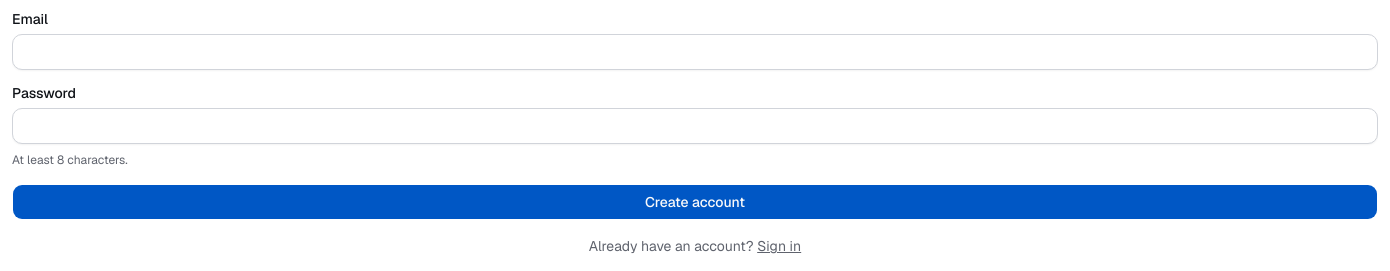
Test case: SignUpForm › when email confirmation is needed, shows the code step instead of leaving
Type "new@x.com" into the field labelled "Email" at (695, 52), box [12, 34, 1378, 70]
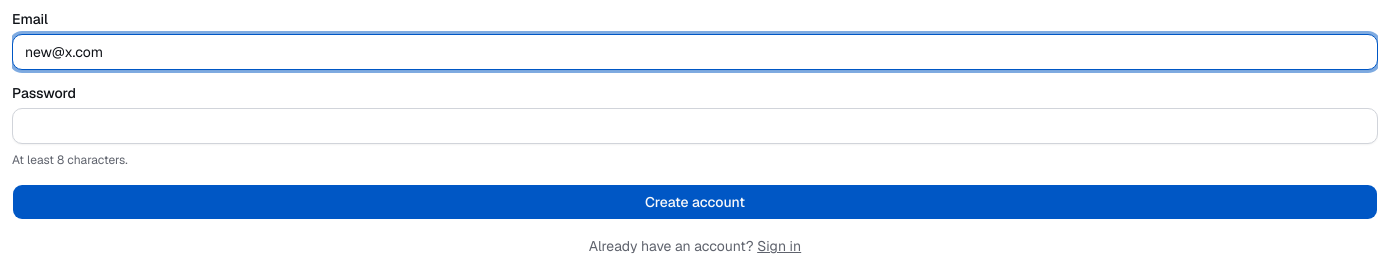
Type "new-person-pw-1" into the password field labelled "Password" at (695, 126), box [12, 108, 1378, 144]
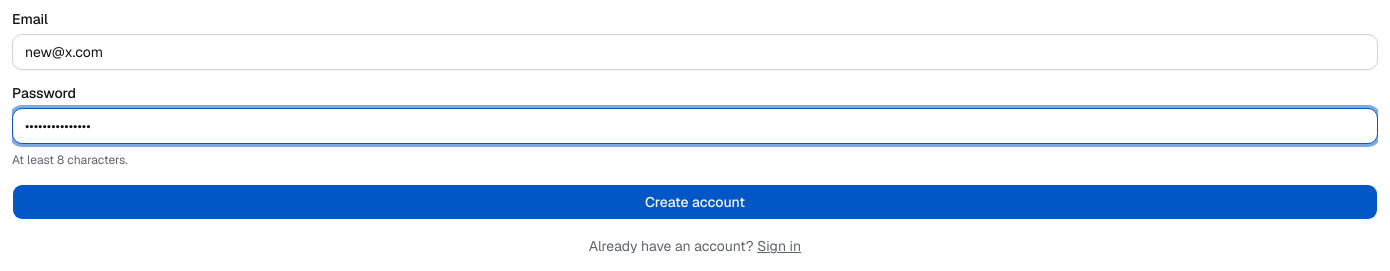
Click the button "Create account" at (695, 202), box [12, 184, 1378, 220]
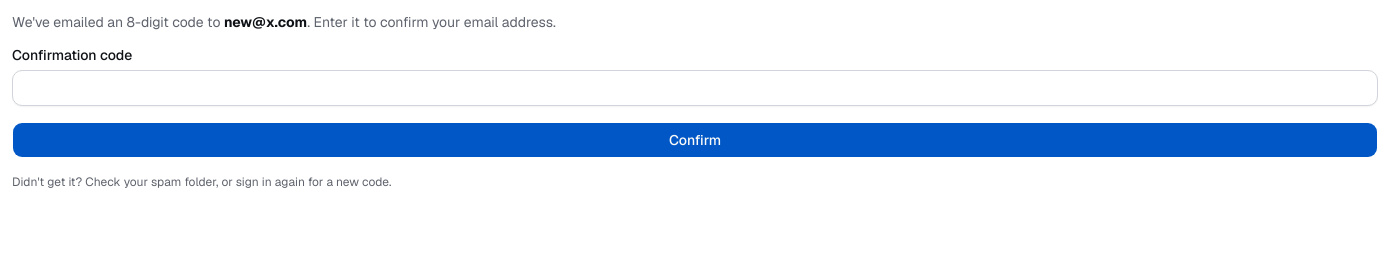
Now the field labelled "Confirmation code" is shown, box [12, 70, 1378, 106]
